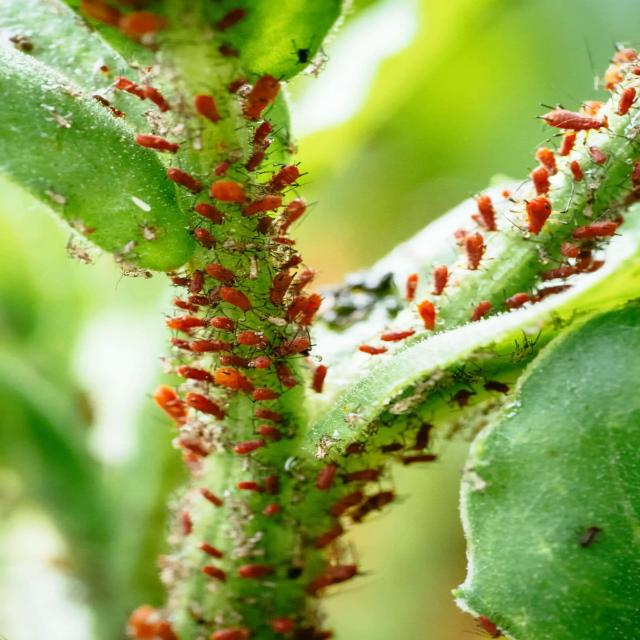Aphid-Grouped-: (118, 76, 331, 448), (396, 47, 640, 339), (200, 450, 390, 588)
